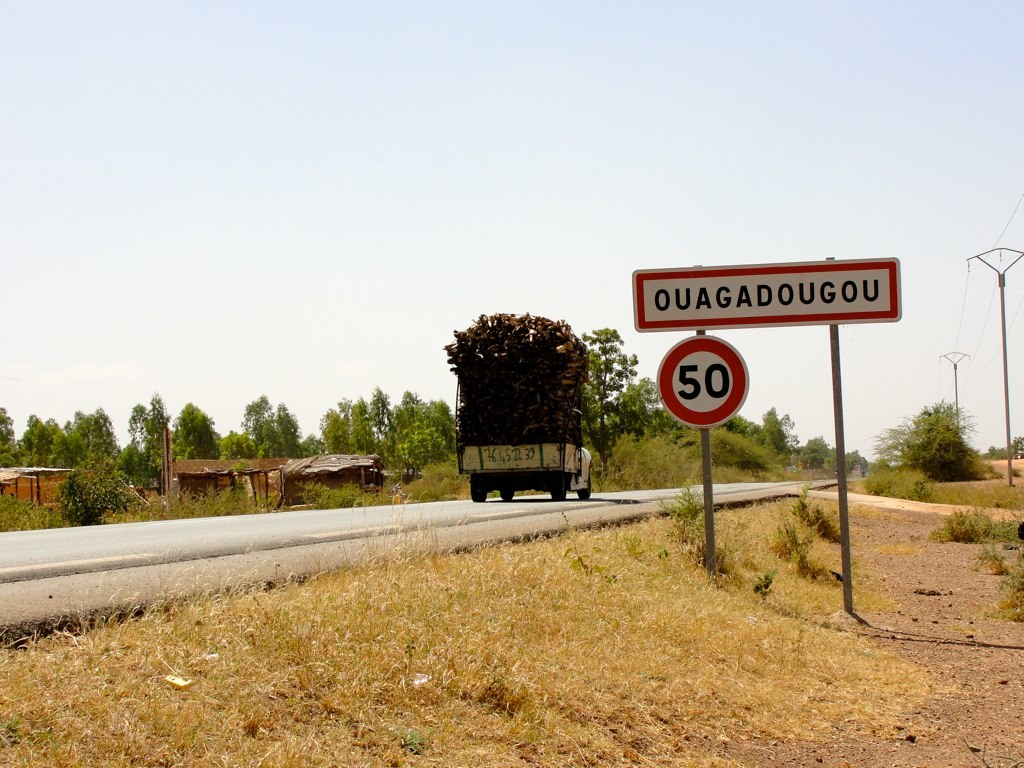speed_limit_50: (653, 335, 751, 430)
